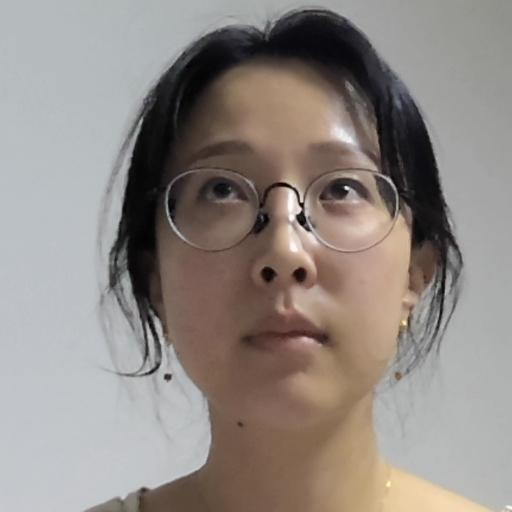no_glasses: (132, 17, 431, 427)
